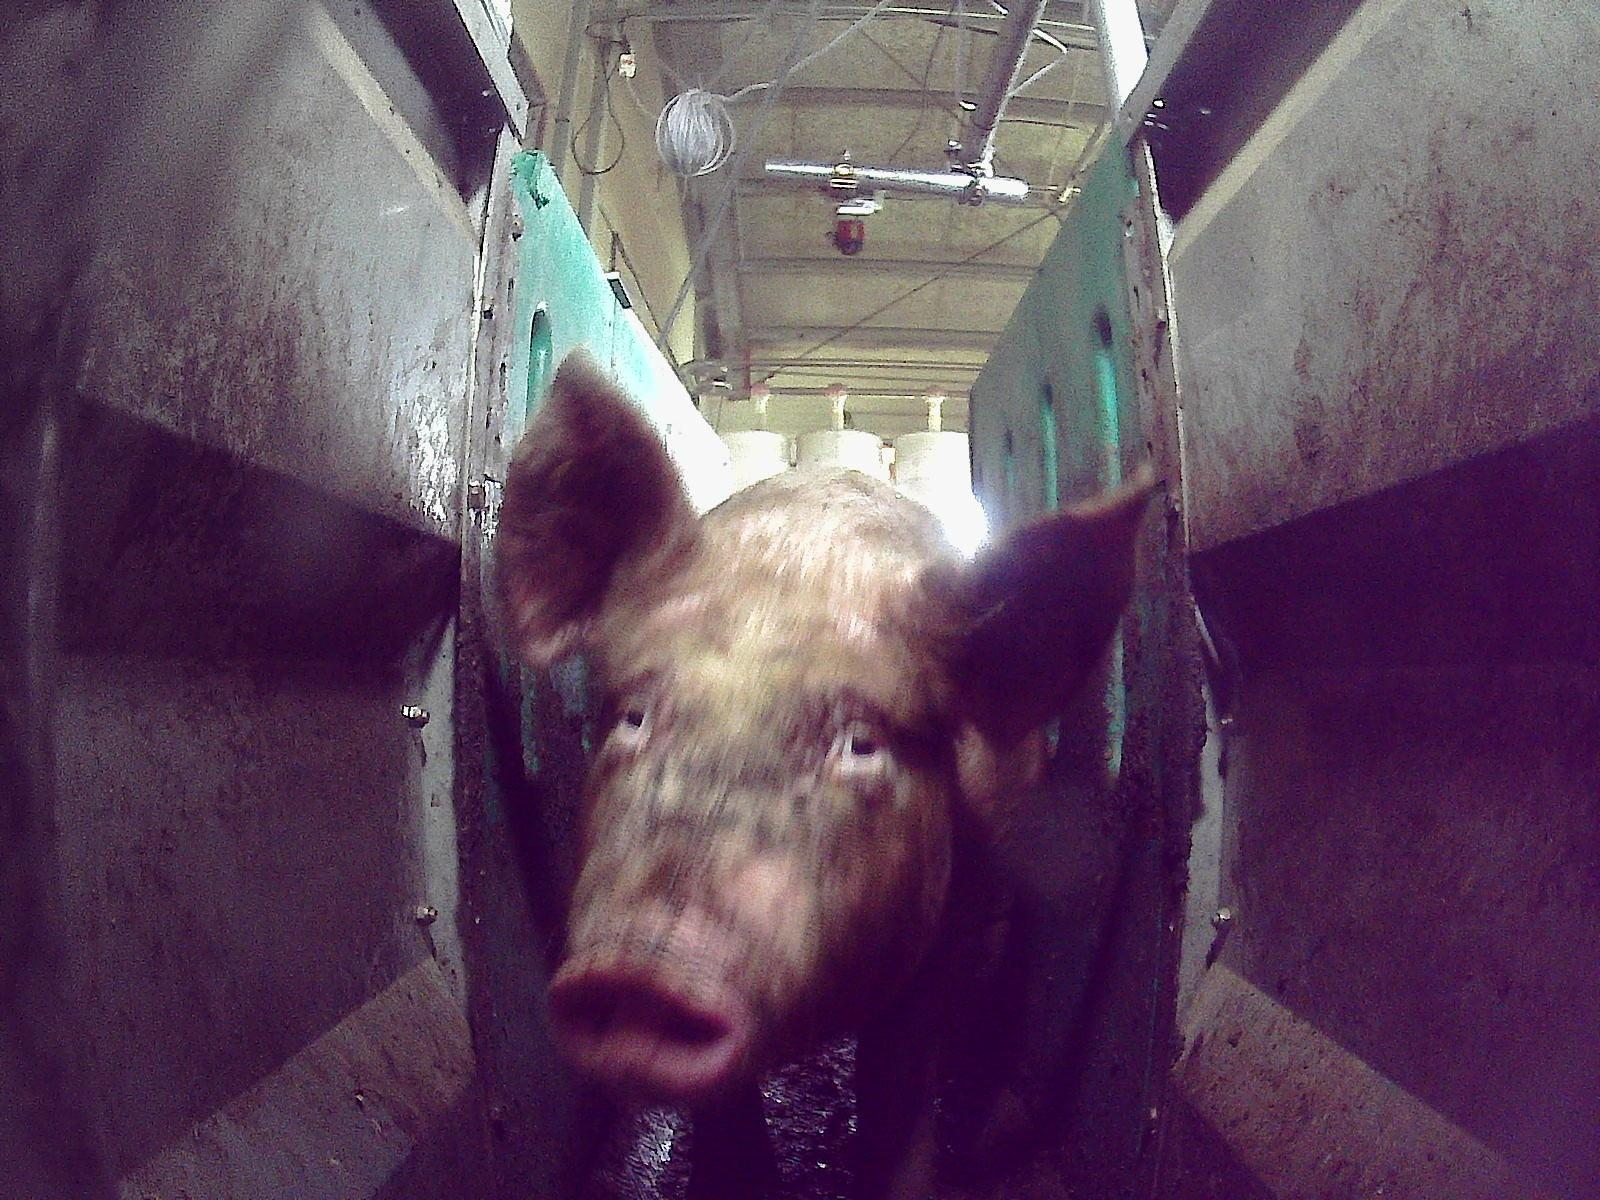Face: (550, 530, 955, 1102)
